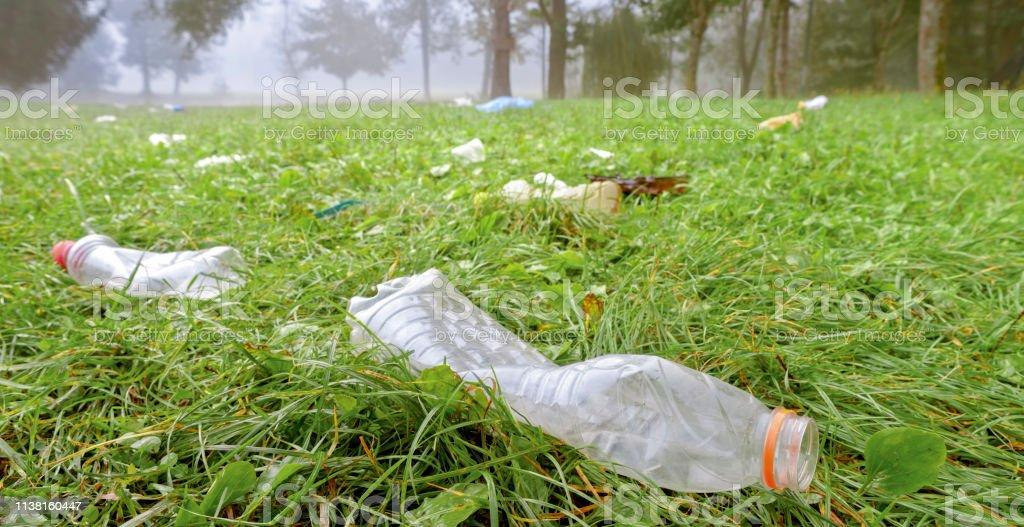bottle: (332, 245, 829, 493), (138, 218, 149, 310)
